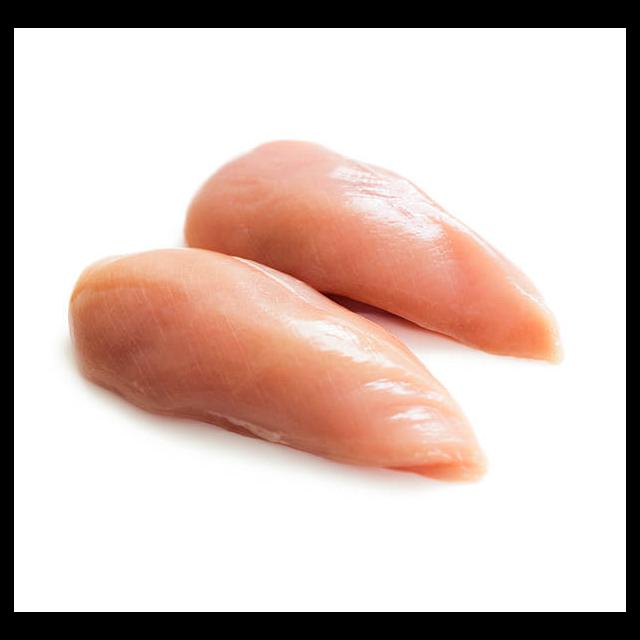chicken: (67, 246, 489, 485), (185, 139, 567, 368)
